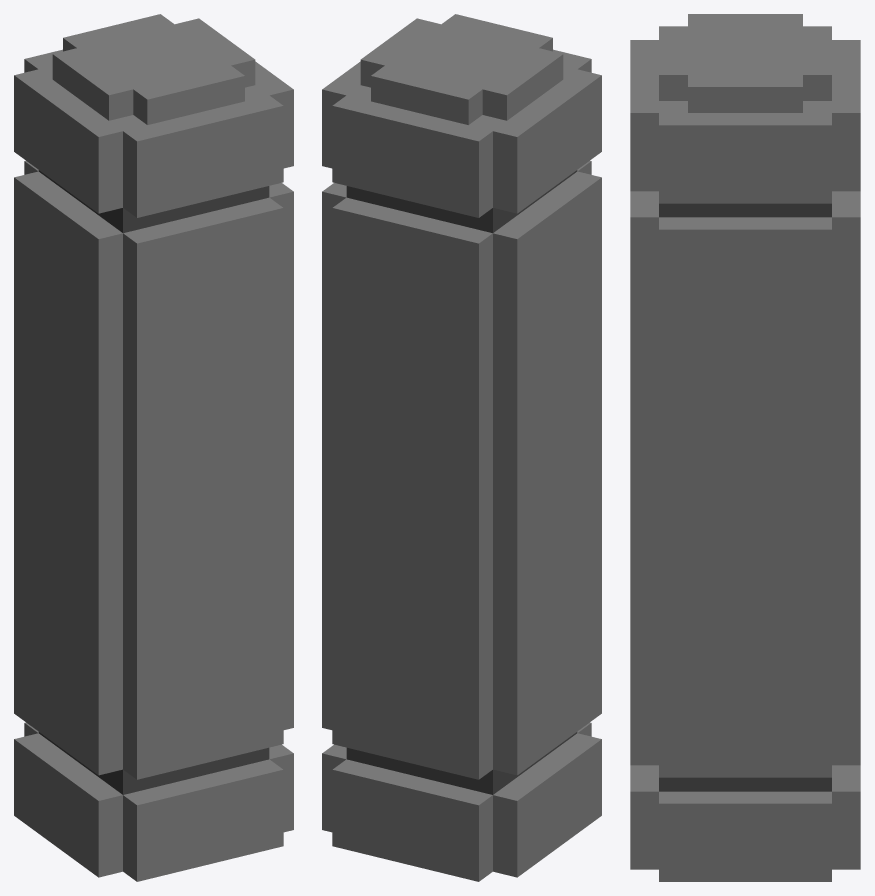
The model's file is 3D Voxel Park-46.obj.
3 renders of one model, left to right at view 1: azimuth 30°, elevation 25°; view 2: azimuth 150°, elevation 25°; view 3: azimuth 270°, elevation 25°, orthographic. The views are drawn at different scales.
Size of the model in its own units: 0.8 by 3 by 0.8.
Materials: 1 (1 with a texture image).
